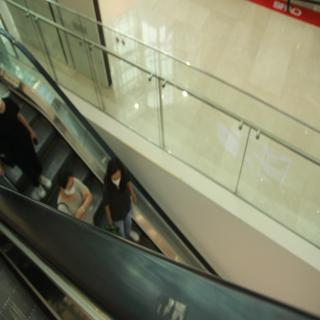person: (49, 162, 94, 237), (104, 151, 138, 239)
